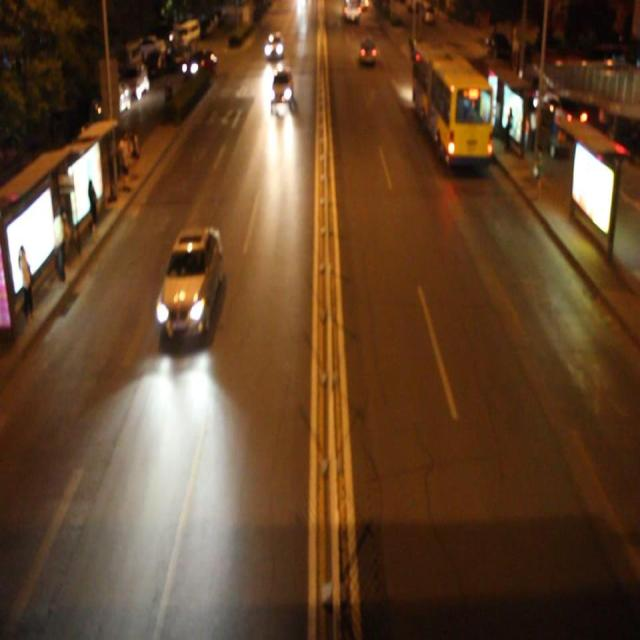car: (157, 226, 223, 341), (269, 61, 294, 108)
van: (410, 38, 491, 166)
